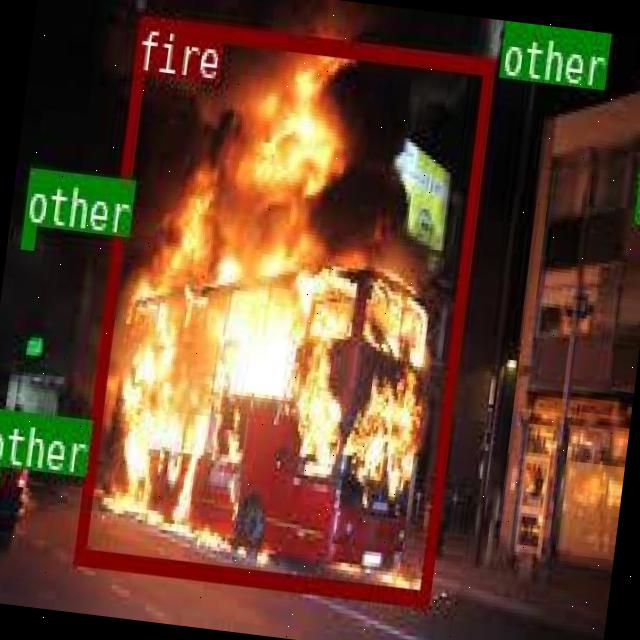fire: (72, 15, 493, 602)
